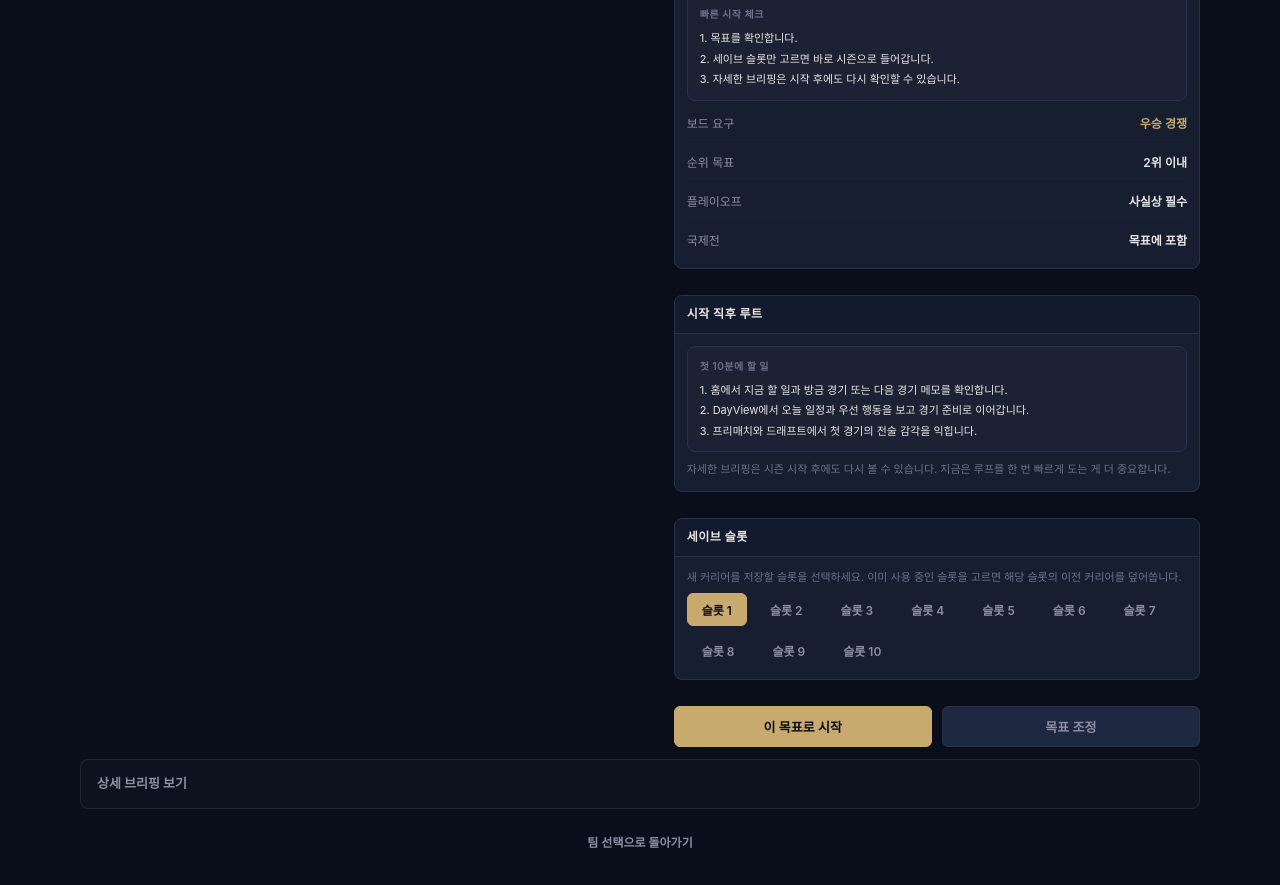
Test: SeasonGoalView › shows a friendly lock message when new game initialization hits a DB lock
(page scrolled)
Click the button "이 목표로 시작" at (803, 727), box [674,706,932,747]
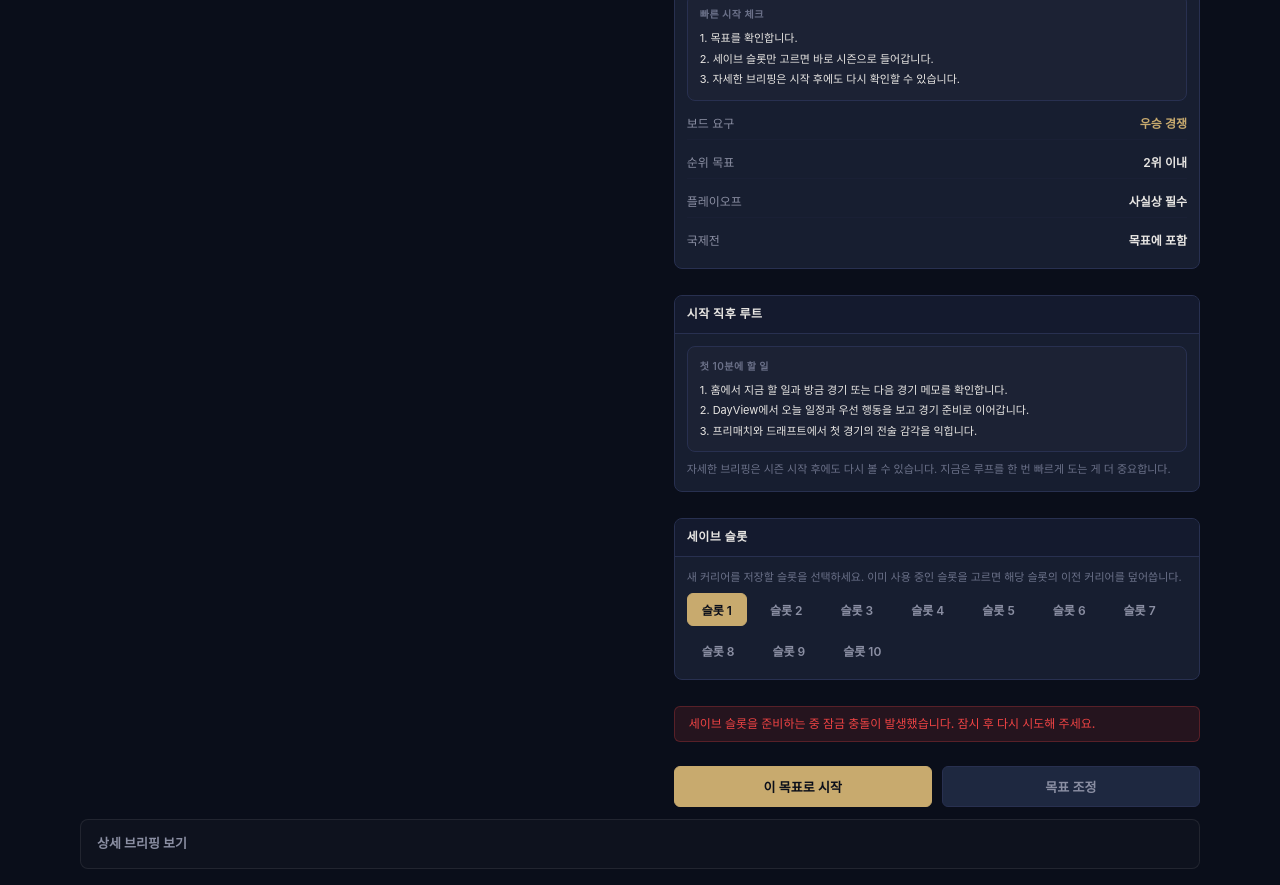
Check: the text "세이브 슬롯을 준비하는 중 잠금 충돌이 발생했습니다. 잠시 후 다시 시도해 주세요." is shown, box [689,716,1095,731]
